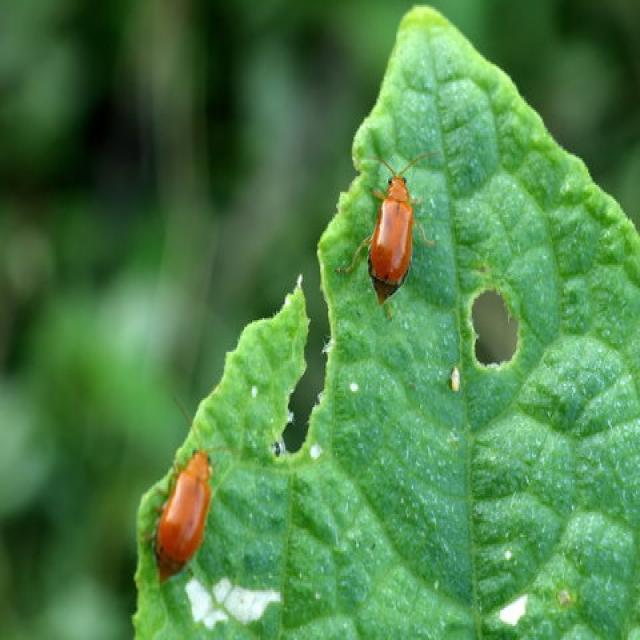Pumpkin Beetle: (336, 122, 448, 322), (141, 386, 247, 592)
